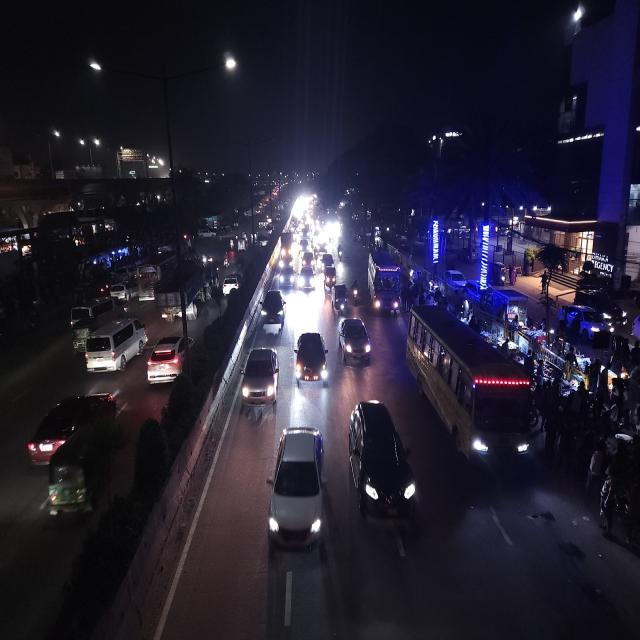bus: (406, 302, 543, 478), (366, 246, 404, 318), (137, 258, 163, 299)
car: (347, 394, 418, 540), (266, 422, 328, 554), (22, 388, 120, 464), (85, 314, 149, 378), (238, 343, 281, 414), (145, 329, 195, 388), (294, 327, 328, 390), (337, 315, 373, 368), (68, 298, 120, 330), (258, 287, 287, 336), (221, 270, 242, 296), (276, 261, 296, 288), (298, 265, 316, 293), (110, 282, 130, 302), (277, 252, 295, 272)
cng: (46, 444, 108, 528), (332, 280, 348, 317), (70, 322, 88, 353), (322, 266, 338, 291)
motorcycle: (350, 277, 360, 306)
truck: (156, 265, 204, 320), (320, 250, 338, 290)
